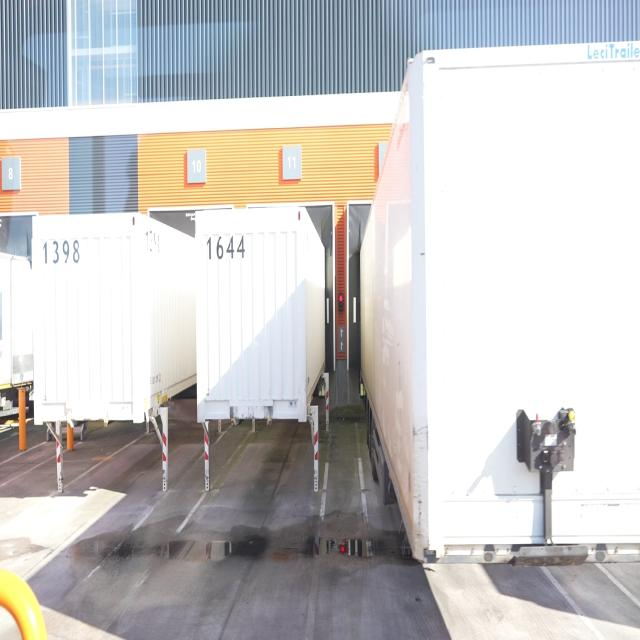Code: (205, 230, 246, 262), (42, 237, 84, 267)
